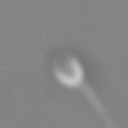normal: (80, 82, 122, 128)
